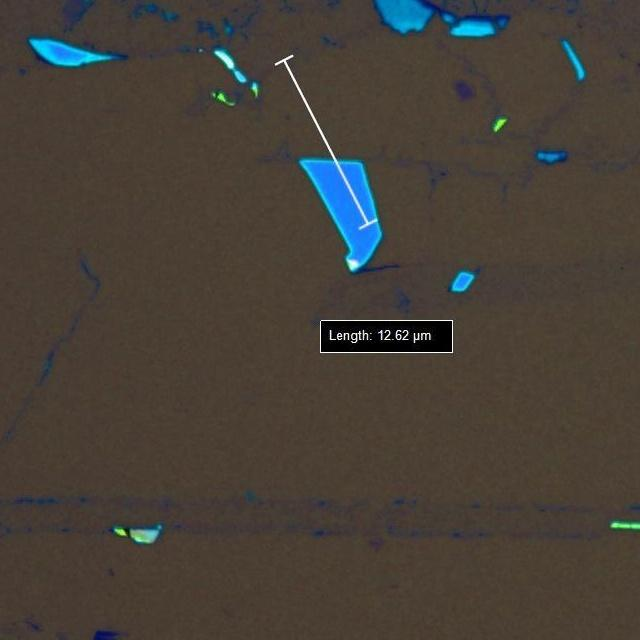monolayer-eWW4: (452, 80, 474, 100)
